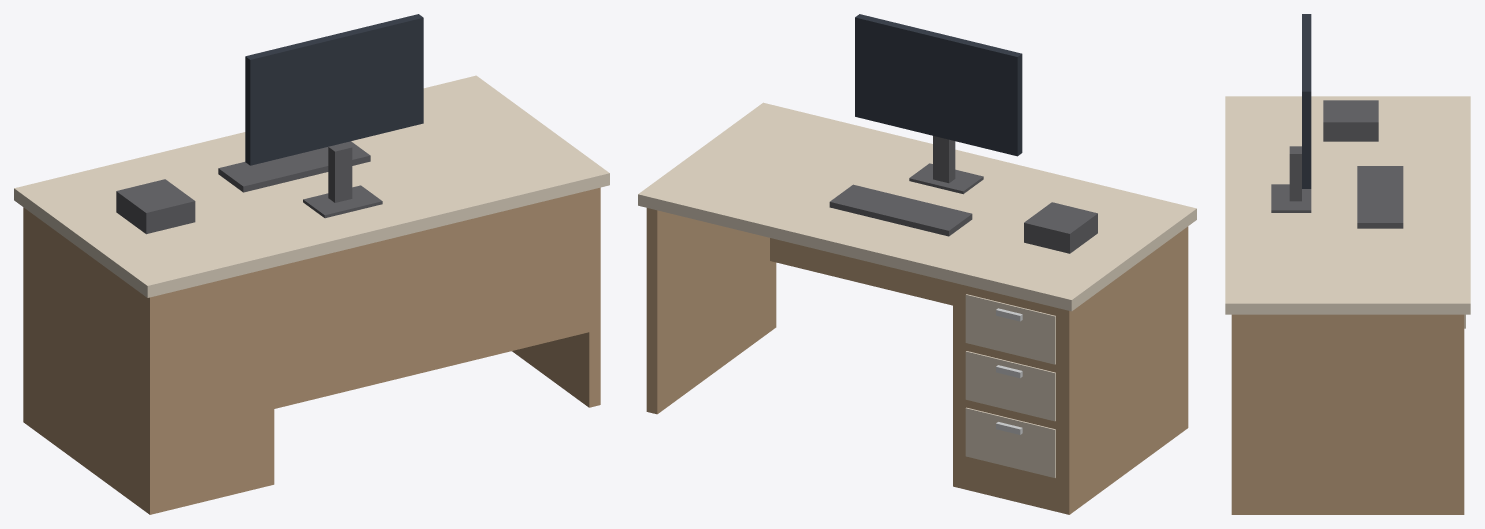
The model's file is Table_Faculty.fbx.
The picture shows the model from 3 angles, left to right: view 1: azimuth 30°, elevation 25°; view 2: azimuth 150°, elevation 25°; view 3: azimuth 270°, elevation 25°; orthographic projection. The views are drawn at different scales.
Parts seen in each view (by area): view 1: Table_Faculty; view 2: Table_Faculty; view 3: Table_Faculty.
Part boxes in pixels (<box>): Table_Faculty: <box>14,14,609,514</box>; Table_Faculty: <box>638,14,1196,514</box>; Table_Faculty: <box>1225,14,1470,514</box>.
Size of the model in its own units: 1.6 by 1.3 by 0.8.
